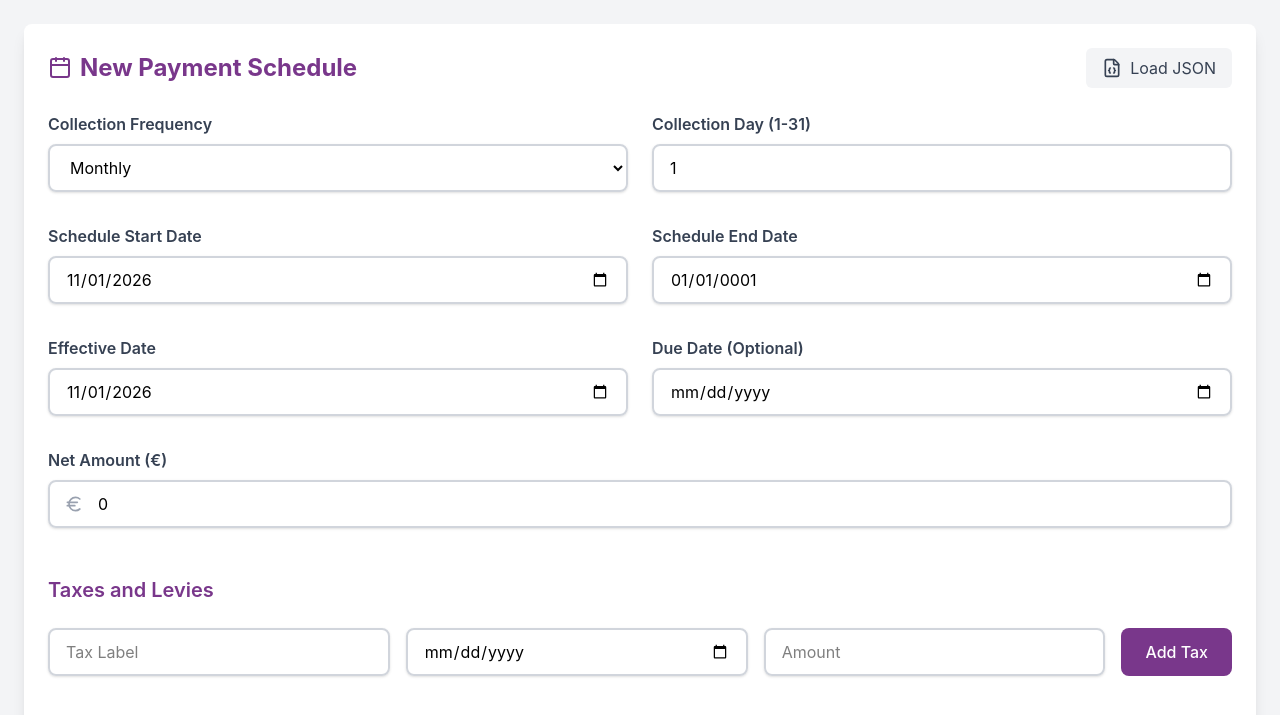
Test: NewSchedule › falls back to a generic error when the error body is not valid JSON
The width and height of the screenshot is (1280, 715).
Replace the text in the number field showing "0" with "250" at (640, 504), box [48,480,1232,528]
(page scrolled)
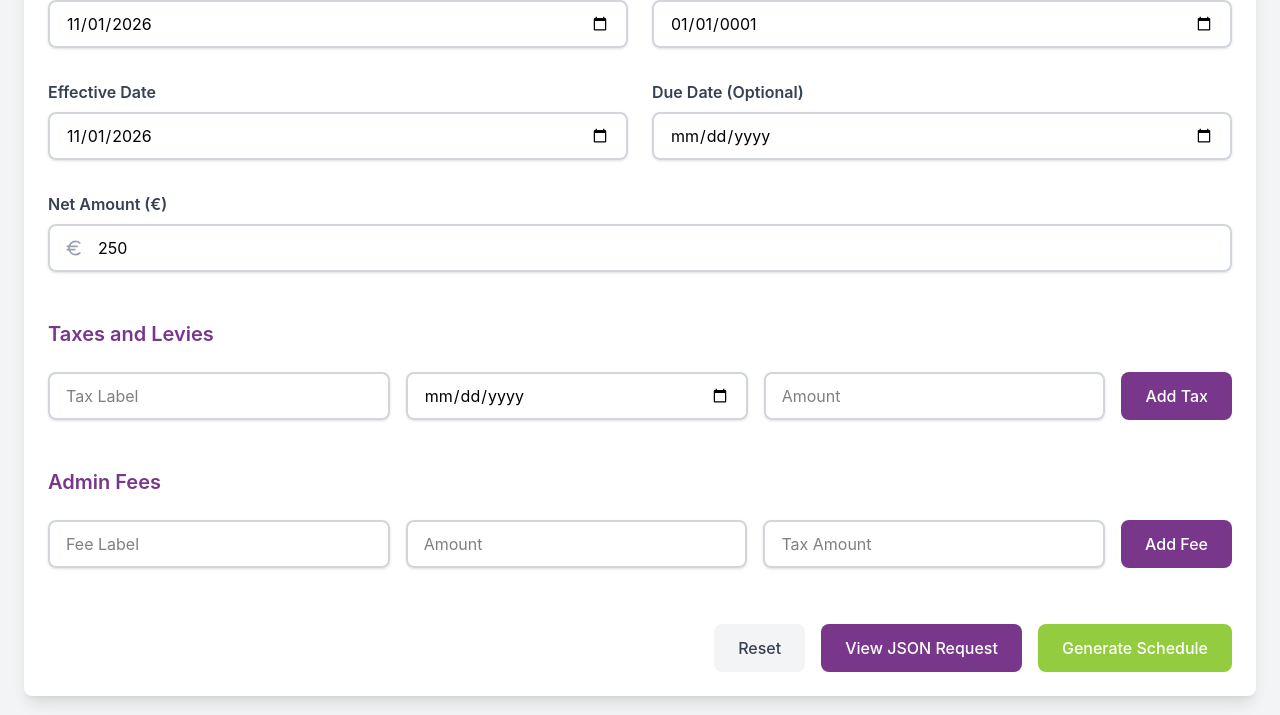
Click the button "Generate Schedule".
click(1135, 648)  # box [1038,624,1232,672]
(page scrolled)
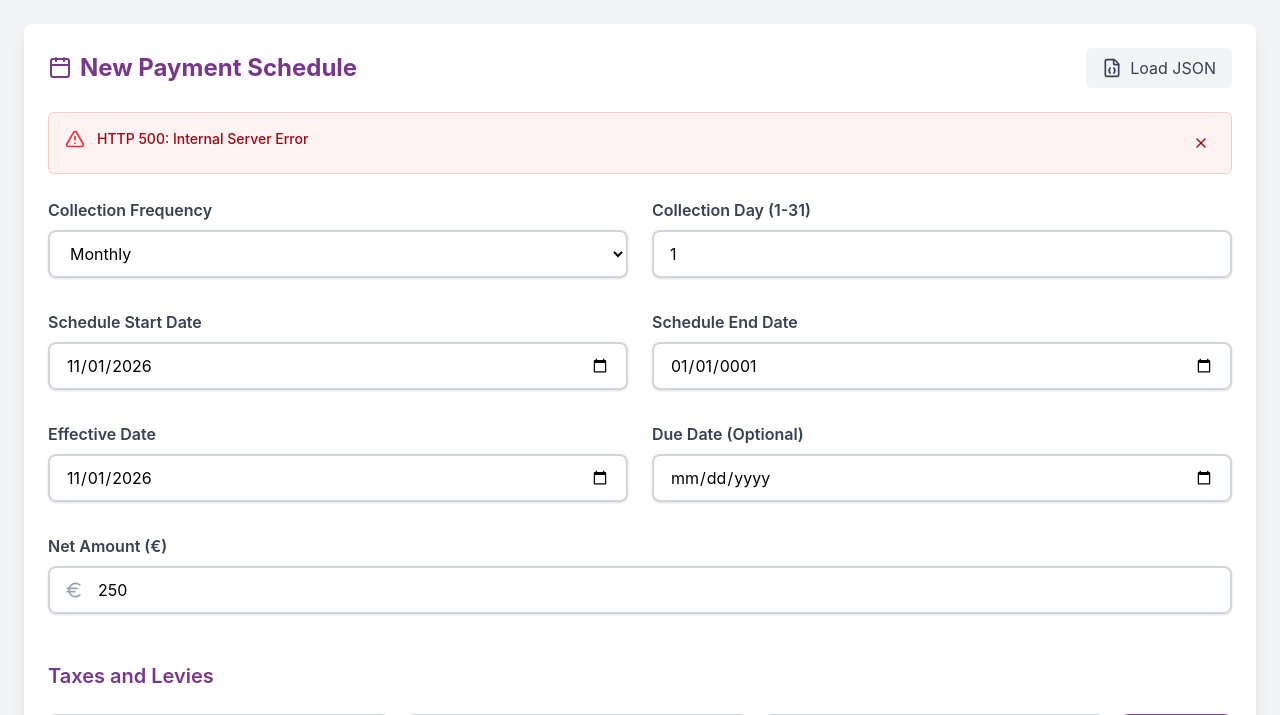
Check: the heading "HTTP 500: Internal Server Error" is shown, box [97,130,308,147]
